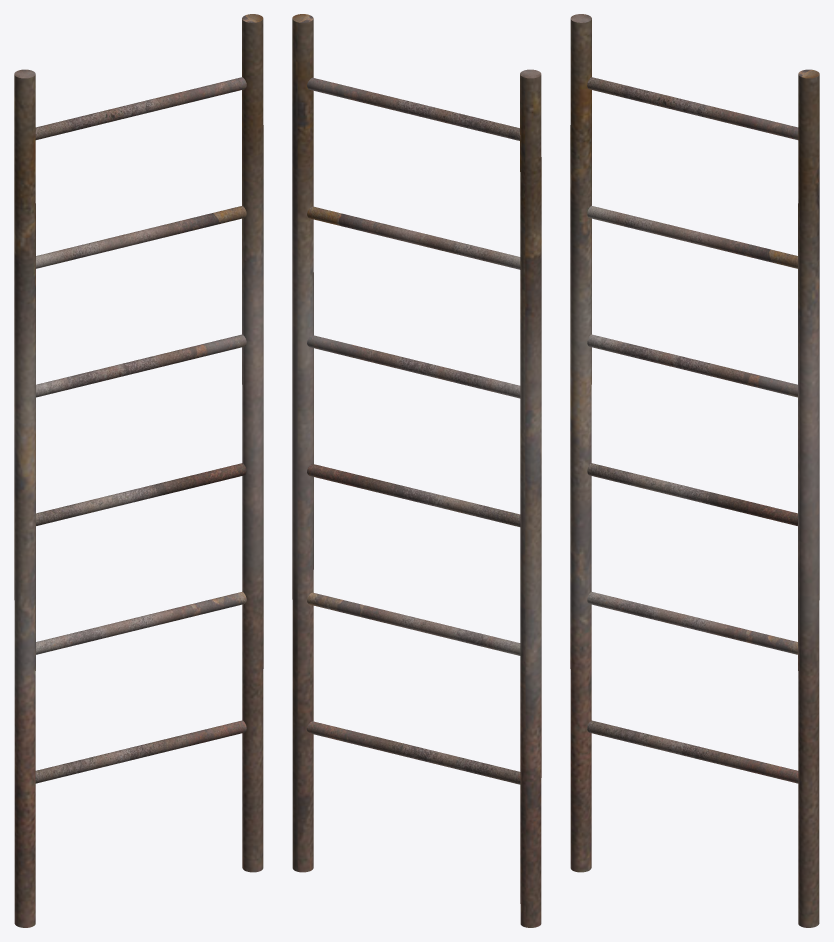
The model's file is hasigo.fbx.
3 views of the same model, side by side, from view 1: azimuth 30°, elevation 25°; view 2: azimuth 150°, elevation 25°; view 3: azimuth 330°, elevation 25° (orthographic).
Parts seen in each view (by area): view 1: pCylinder28; view 2: pCylinder28; view 3: pCylinder28.
Part boxes in pixels (left/top/right/bottom): pCylinder28: left=14, top=14, right=263, bottom=927; pCylinder28: left=292, top=14, right=541, bottom=927; pCylinder28: left=570, top=14, right=819, bottom=927.
Size of the model in its own units: 14.96 by 49.33 by 1.15.
Materials: 1 (1 with a texture image).
